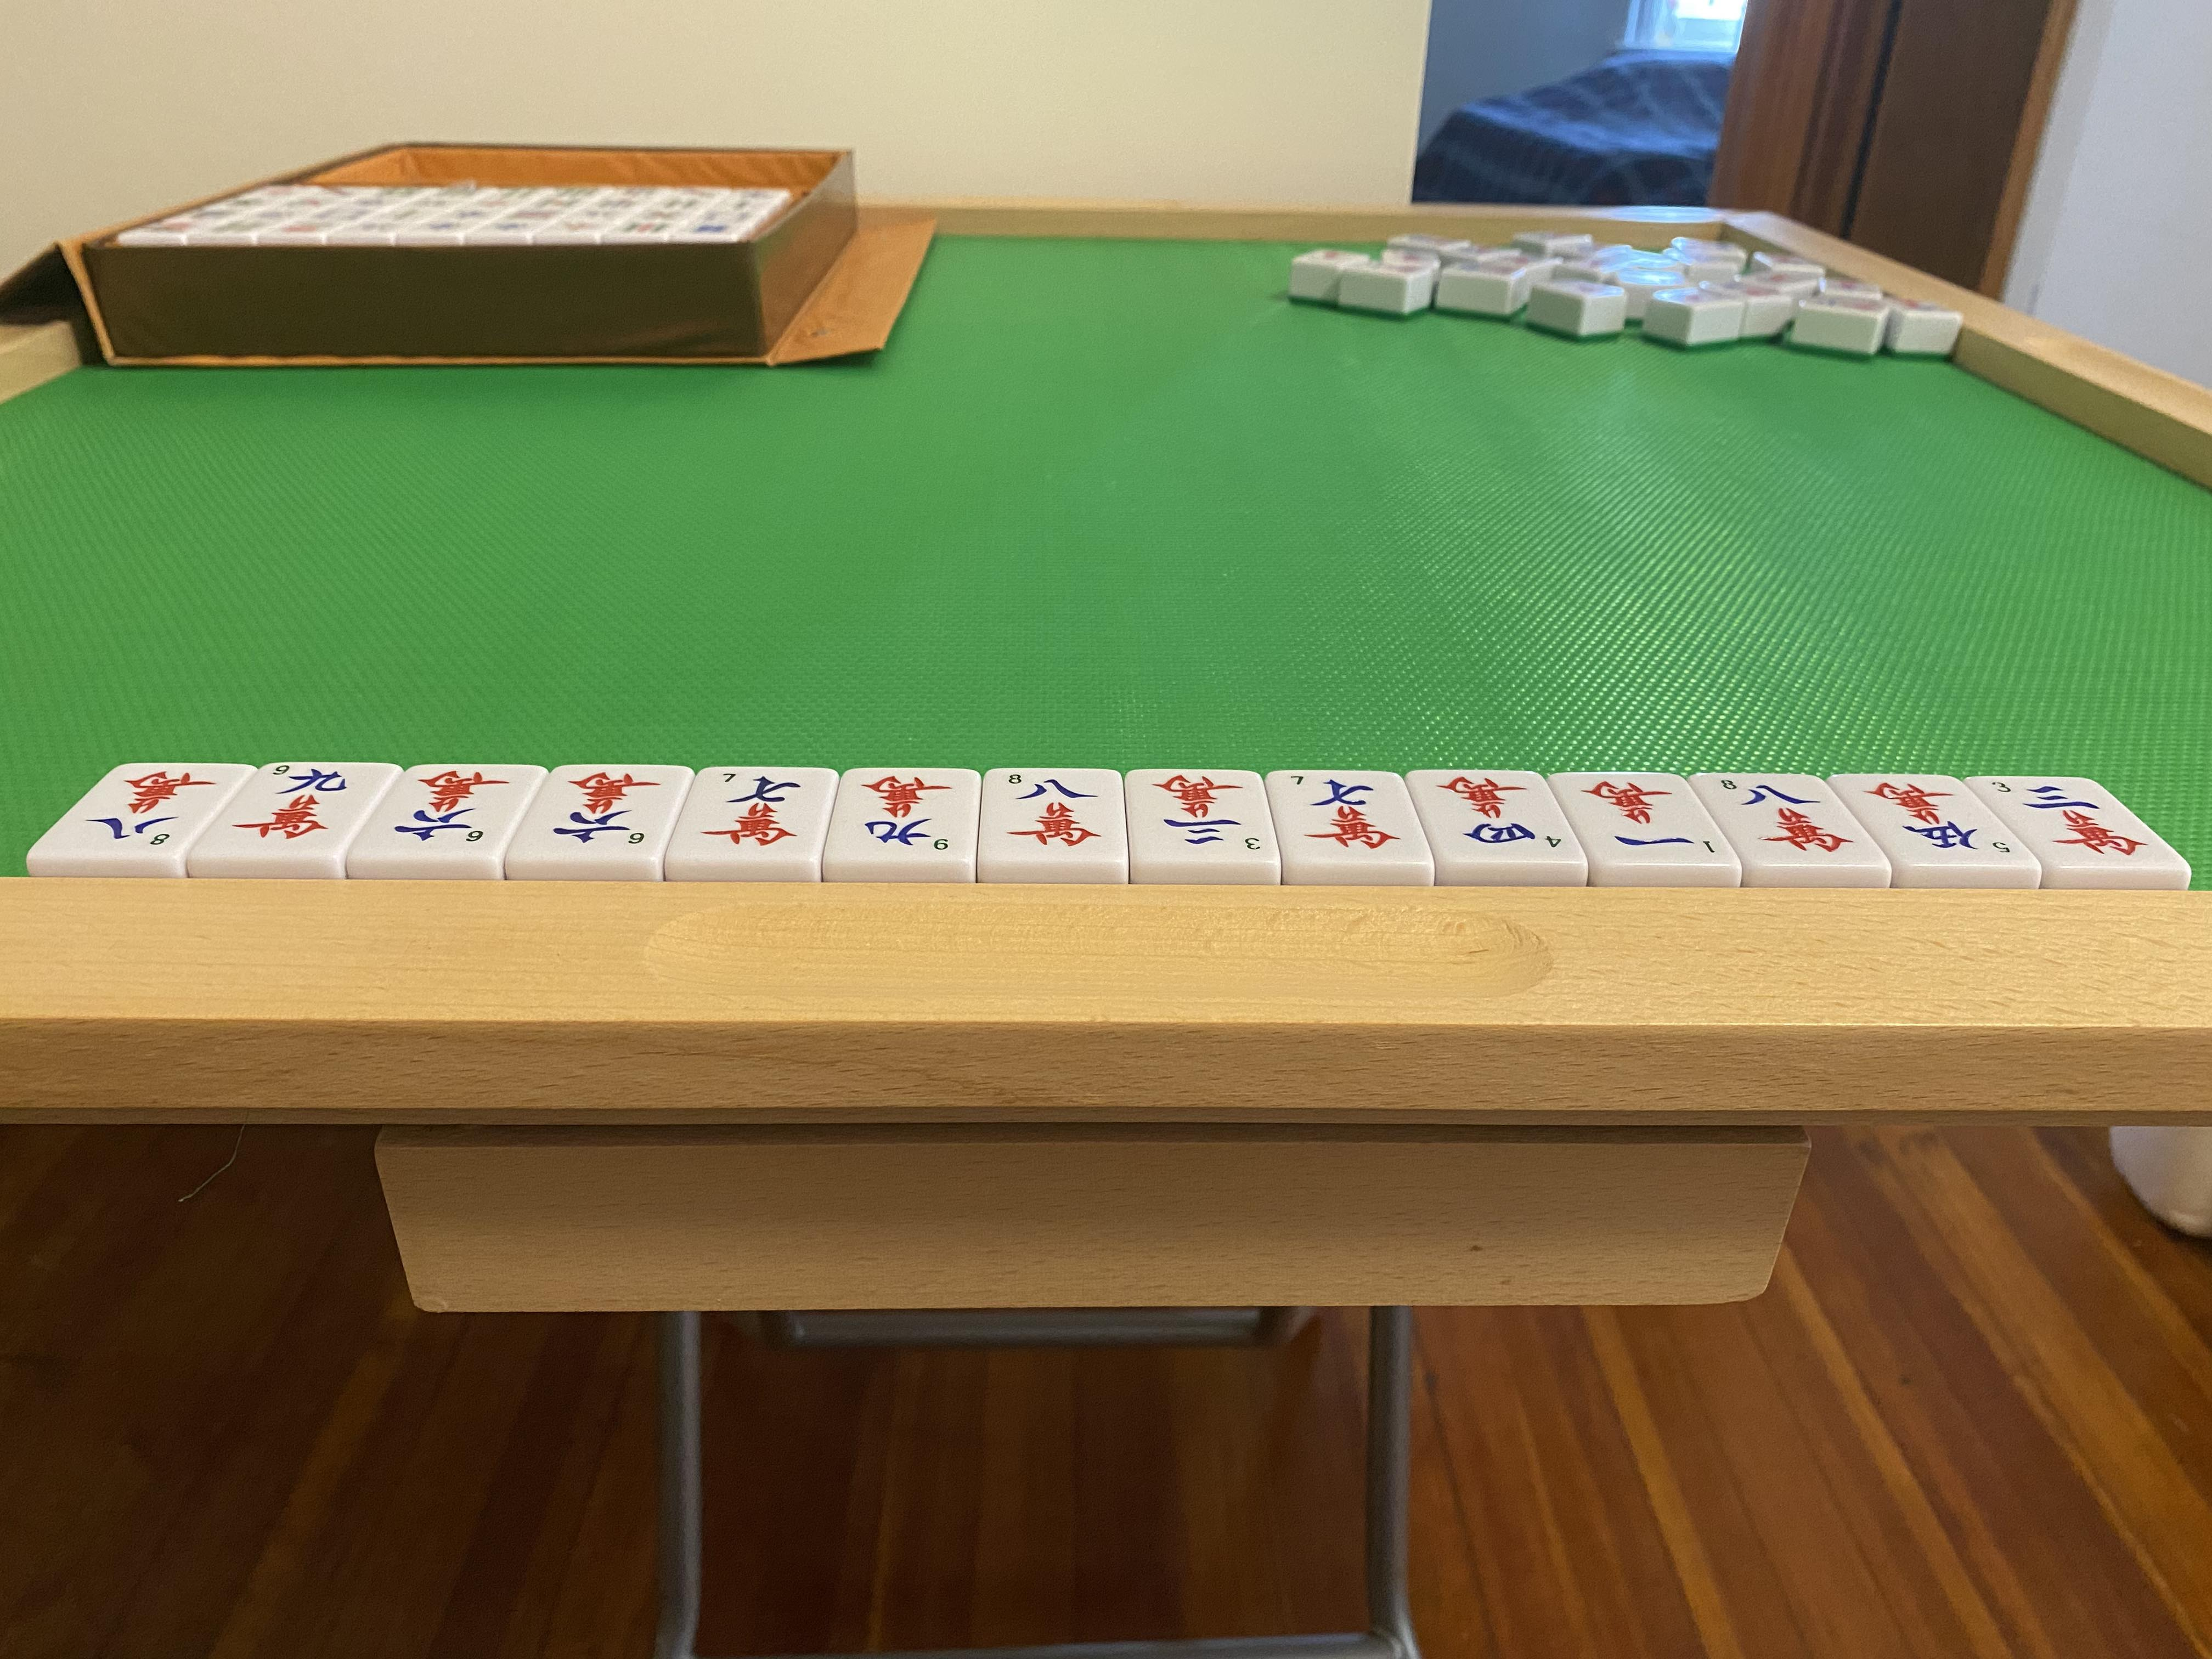character-eight: (1724, 775, 1862, 864), (84, 770, 221, 859), (996, 770, 1109, 863)
character-five: (1864, 775, 1977, 866)
character-four: (1430, 770, 1564, 864)
character-nine: (846, 767, 970, 866), (230, 762, 345, 856)
character-one: (1575, 775, 1721, 861)
character-seven: (702, 765, 812, 863), (1289, 772, 1406, 857)
character-six: (394, 774, 512, 859), (556, 767, 655, 868)
character-three: (2019, 784, 2146, 877), (1137, 774, 1263, 859)
